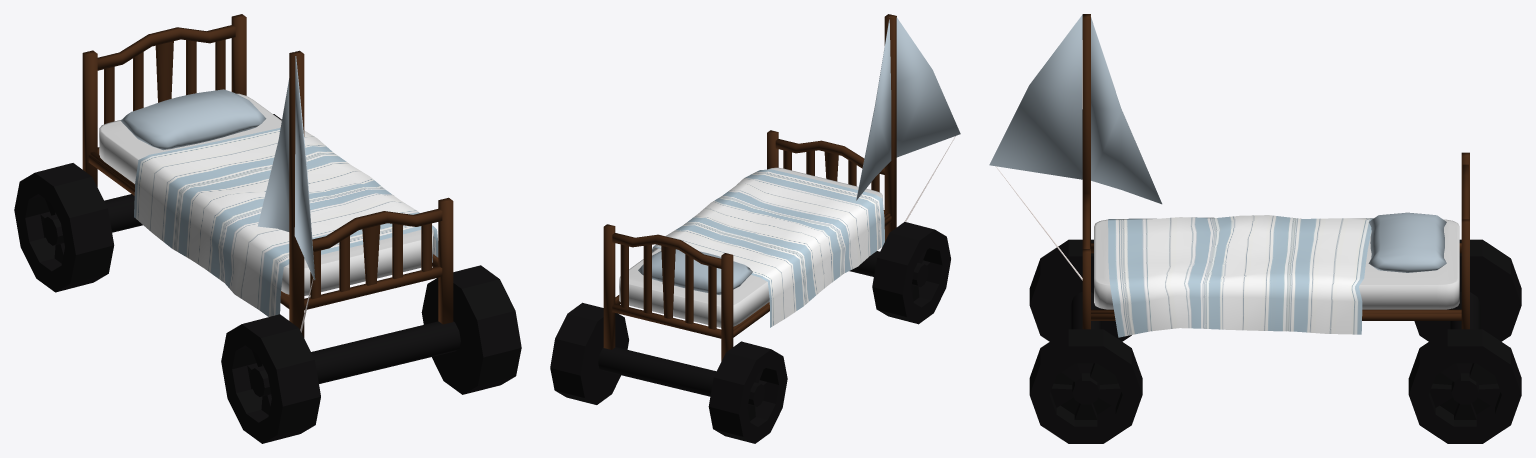
The model's file is krevet_crni_tockovi.fbx.
3 views of the same model, side by side, from view 1: azimuth 30°, elevation 25°; view 2: azimuth 150°, elevation 25°; view 3: azimuth 270°, elevation 25° (orthographic). The views are drawn at different scales.
Visible parts, largest first — view 1: bed01_two_old_beds.005, Vehicle.001, boat-sail.001; view 2: bed01_two_old_beds.005, Vehicle.001, boat-sail.001; view 3: bed01_two_old_beds.005, Vehicle.001, boat-sail.001.
Part boxes in pixels (left/top/right/bottom): bed01_two_old_beds.005: left=82, top=14, right=453, bottom=337; Vehicle.001: left=14, top=114, right=521, bottom=443; boat-sail.001: left=257, top=52, right=315, bottom=280; bed01_two_old_beds.005: left=603, top=14, right=896, bottom=361; Vehicle.001: left=550, top=222, right=950, bottom=443; boat-sail.001: left=856, top=17, right=960, bottom=200; bed01_two_old_beds.005: left=1082, top=14, right=1469, bottom=337; Vehicle.001: left=1029, top=239, right=1521, bottom=443; boat-sail.001: left=989, top=15, right=1162, bottom=204.
Bounding box in the file's own units: 300 × 445 × 629.
